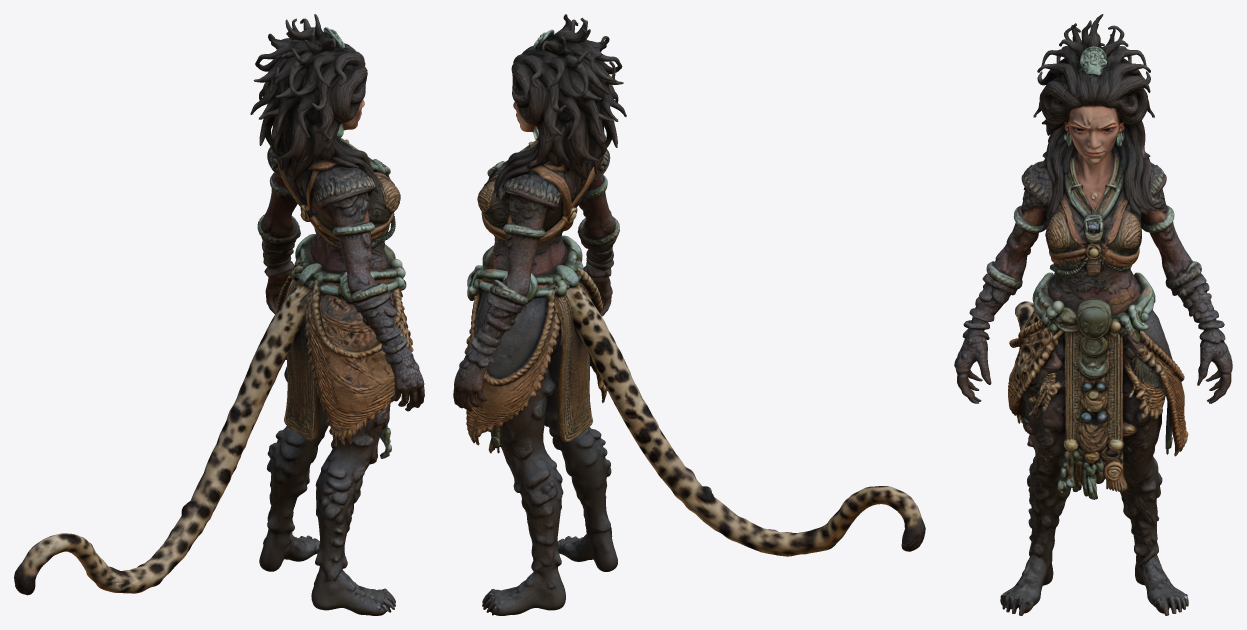
File: xiwangmu.glb
3 views of the same model, side by side, from view 1: azimuth 30°, elevation 25°; view 2: azimuth 150°, elevation 25°; view 3: azimuth 270°, elevation 25° (orthographic).
Visible parts, largest first — view 1: tripo_node_e0f4cc36-4325-43c9-8d24-4821c145541f; view 2: tripo_node_e0f4cc36-4325-43c9-8d24-4821c145541f; view 3: tripo_node_e0f4cc36-4325-43c9-8d24-4821c145541f.
Part boxes in pixels (bbox=[...]): tripo_node_e0f4cc36-4325-43c9-8d24-4821c145541f: bbox=[14, 14, 424, 615]; tripo_node_e0f4cc36-4325-43c9-8d24-4821c145541f: bbox=[453, 14, 925, 615]; tripo_node_e0f4cc36-4325-43c9-8d24-4821c145541f: bbox=[954, 14, 1232, 615].
Bounding box in the file's own units: 0.7281 × 0.9809 × 0.4303.
1 material, 1 textured.
